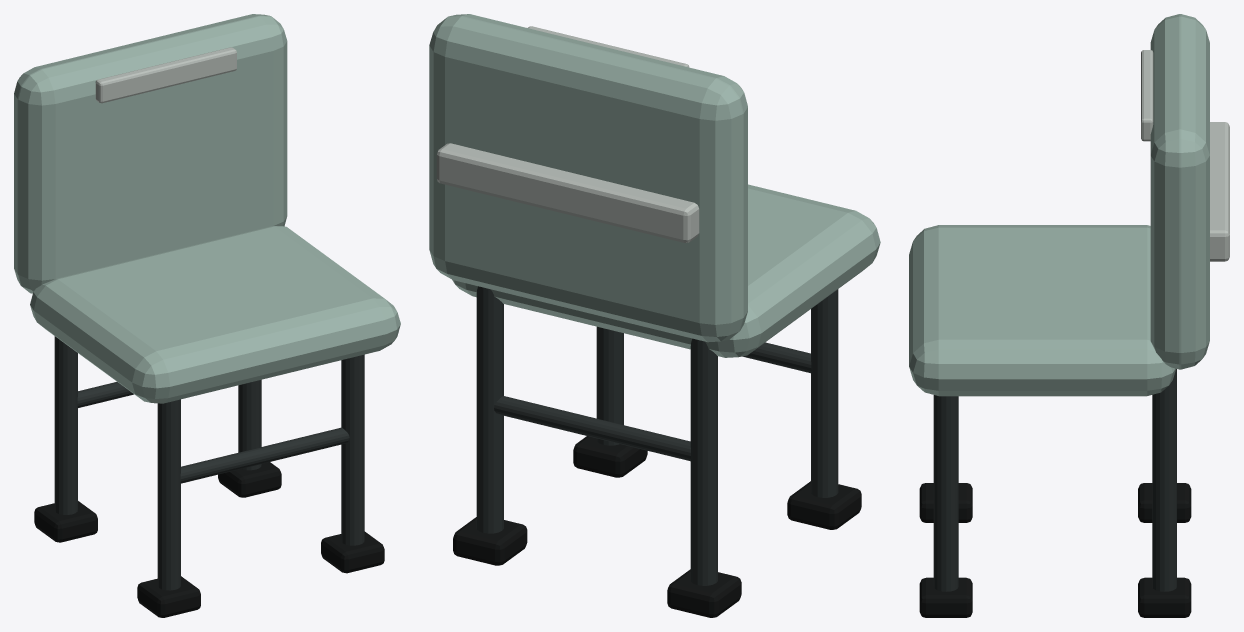
The model's file is Ensemble de chaises moulées.glb.
3 renders of one model, left to right at view 1: azimuth 30°, elevation 25°; view 2: azimuth 150°, elevation 25°; view 3: azimuth 270°, elevation 25°, orthographic. The views are drawn at different scales.
Visible parts, largest first — view 1: CHAIR_A_Curved_Back_Panel, CHAIR_A_Molded_Plastic_Seat, CHAIR_A_Tubular_Leg_0, CHAIR_A_Tubular_Leg_1, CHAIR_A_Tubular_Leg_2, CHAIR_A_Back_Top_Trim, CHAIR_A_Front_Underseat_Brace, CHAIR_A_Rubber_Foot_1, CHAIR_A_Rubber_Foot_0, CHAIR_A_Rubber_Foot_2, CHAIR_A_Tubular_Leg_3, CHAIR_A_Rubber_Foot_3 (+1 smaller); view 2: CHAIR_A_Curved_Back_Panel, CHAIR_A_Molded_Plastic_Seat, CHAIR_A_Back_Rear_Rib, CHAIR_A_Tubular_Leg_2, CHAIR_A_Tubular_Leg_3, CHAIR_A_Tubular_Leg_0, CHAIR_A_Back_Underseat_Brace, CHAIR_A_Tubular_Leg_1, CHAIR_A_Rubber_Foot_3, CHAIR_A_Rubber_Foot_0, CHAIR_A_Rubber_Foot_2, CHAIR_A_Rubber_Foot_1 (+1 smaller); view 3: CHAIR_A_Molded_Plastic_Seat, CHAIR_A_Curved_Back_Panel, CHAIR_A_Tubular_Leg_3, CHAIR_A_Tubular_Leg_1, CHAIR_A_Back_Rear_Rib, CHAIR_A_Rubber_Foot_1, CHAIR_A_Rubber_Foot_3, CHAIR_A_Rubber_Foot_0, CHAIR_A_Rubber_Foot_2, CHAIR_A_Back_Top_Trim.
Part boxes in pixels (box(x1,y1,x2,y2)): CHAIR_A_Curved_Back_Panel: box(14, 14, 287, 293); CHAIR_A_Molded_Plastic_Seat: box(30, 226, 400, 403); CHAIR_A_Tubular_Leg_0: box(157, 399, 180, 590); CHAIR_A_Tubular_Leg_1: box(341, 354, 364, 545); CHAIR_A_Tubular_Leg_2: box(54, 336, 77, 514); CHAIR_A_Back_Top_Trim: box(95, 47, 236, 103); CHAIR_A_Front_Underseat_Brace: box(180, 427, 349, 483); CHAIR_A_Rubber_Foot_1: box(321, 531, 384, 573); CHAIR_A_Rubber_Foot_0: box(137, 576, 200, 617); CHAIR_A_Rubber_Foot_2: box(34, 501, 97, 542); CHAIR_A_Tubular_Leg_3: box(238, 379, 261, 470); CHAIR_A_Rubber_Foot_3: box(218, 462, 281, 497); CHAIR_A_Curved_Back_Panel: box(429, 14, 747, 342); CHAIR_A_Molded_Plastic_Seat: box(452, 184, 880, 357); CHAIR_A_Back_Rear_Rib: box(436, 143, 699, 242); CHAIR_A_Tubular_Leg_2: box(690, 338, 717, 585); CHAIR_A_Tubular_Leg_3: box(476, 286, 503, 533); CHAIR_A_Tubular_Leg_0: box(811, 289, 838, 497); CHAIR_A_Back_Underseat_Brace: box(494, 396, 690, 461); CHAIR_A_Tubular_Leg_1: box(596, 326, 623, 445); CHAIR_A_Rubber_Foot_3: box(453, 517, 527, 565); CHAIR_A_Rubber_Foot_0: box(787, 481, 861, 529); CHAIR_A_Rubber_Foot_2: box(667, 569, 741, 617); CHAIR_A_Rubber_Foot_1: box(573, 436, 647, 477); CHAIR_A_Molded_Plastic_Seat: box(909, 225, 1175, 396); CHAIR_A_Curved_Back_Panel: box(1150, 14, 1209, 369); CHAIR_A_Tubular_Leg_3: box(1152, 369, 1176, 591); CHAIR_A_Tubular_Leg_1: box(933, 395, 958, 591); CHAIR_A_Back_Rear_Rib: box(1210, 122, 1229, 261); CHAIR_A_Rubber_Foot_1: box(919, 577, 972, 617); CHAIR_A_Rubber_Foot_3: box(1138, 577, 1191, 617); CHAIR_A_Rubber_Foot_0: box(919, 483, 972, 522); CHAIR_A_Rubber_Foot_2: box(1138, 483, 1191, 522); CHAIR_A_Back_Top_Trim: box(1141, 50, 1153, 141).
Size of the model in its own units: 0.52 by 0.87 by 0.514.
